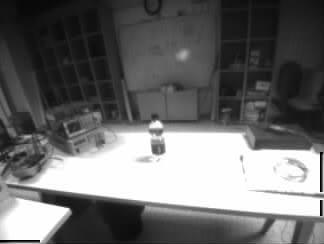Bottle: (148, 115, 166, 160)
